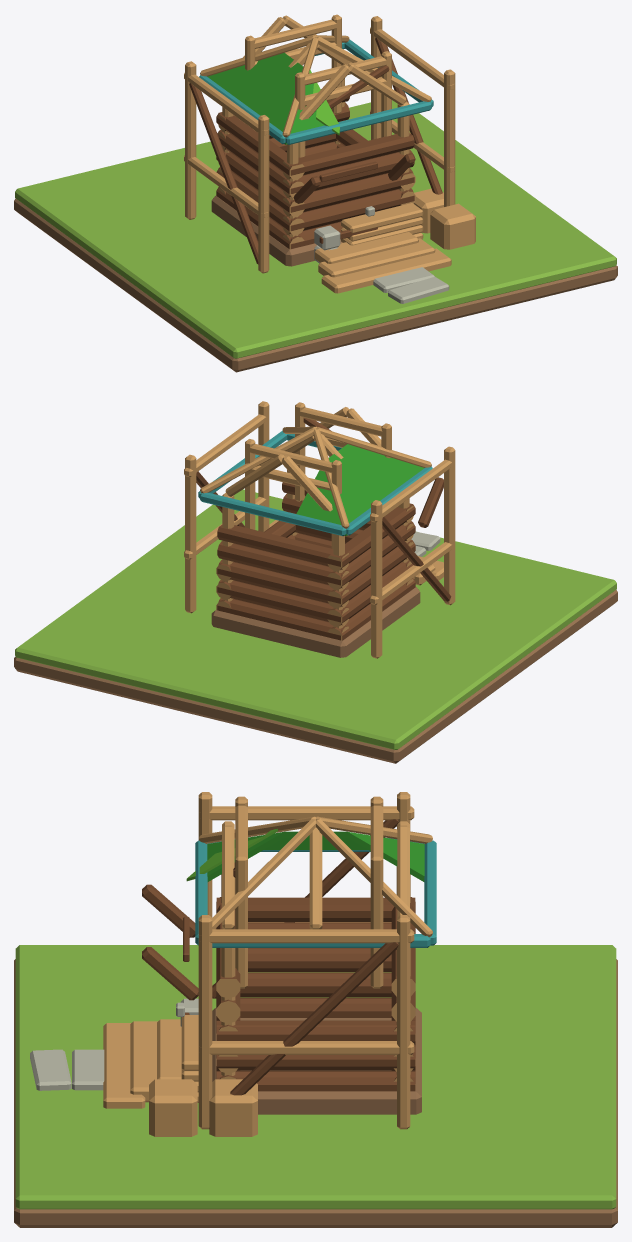
The model's file is town_hall_l01_construction_LOD0.glb.
The picture shows the model from 3 angles, top to bottom: view 1: azimuth 30°, elevation 25°; view 2: azimuth 150°, elevation 25°; view 3: azimuth 270°, elevation 25°; orthographic projection. The views are drawn at different scales.
Visible parts, largest first — view 1: town_hall_l01_construction_grass_tile, town_hall_l01_construction_earth_tile, town_hall_l01_construction_wall_log.016, town_hall_l01_construction_hip_roof_shingle.011, town_hall_l01_construction_wall_log.004, town_hall_l01_construction_wall_log.008, town_hall_l01_construction_entry_step.002, town_hall_l01_construction_scaffold_post, town_hall_l01_construction_blueprint_crate, town_hall_l01_construction_entry_step.001, town_hall_l01_construction_scaffold_post.001, town_hall_l01_construction_scaffold_brace (+33 smaller); view 2: town_hall_l01_construction_grass_tile, town_hall_l01_construction_earth_tile, town_hall_l01_construction_foundation, town_hall_l01_construction_wall_log.013, town_hall_l01_construction_wall_log.017, town_hall_l01_construction_hip_roof_shingle.011, town_hall_l01_construction_wall_log.009, town_hall_l01_construction_wall_log.005, town_hall_l01_construction_wall_log.001, town_hall_l01_construction_scaffold_post.001, town_hall_l01_construction_scaffold_post.003, town_hall_l01_construction_scaffold_post (+26 smaller); view 3: town_hall_l01_construction_grass_tile, town_hall_l01_construction_earth_tile, town_hall_l01_construction_foundation, town_hall_l01_construction_wall_log.011, town_hall_l01_construction_wall_log.006, town_hall_l01_construction_wall_log.003, town_hall_l01_construction_wall_log.018, town_hall_l01_construction_scaffold_post.002, town_hall_l01_construction_wall_log.010, town_hall_l01_construction_scaffold_rail.003, town_hall_l01_construction_scaffold_post.003, town_hall_l01_construction_wall_log.002 (+36 smaller).
Part boxes in pixels (x1,y1,x2,y2): town_hall_l01_construction_grass_tile: (15,100,616,358); town_hall_l01_construction_earth_tile: (14,198,617,372); town_hall_l01_construction_wall_log.016: (283,133,414,178); town_hall_l01_construction_hip_roof_shingle.011: (207,66,291,144); town_hall_l01_construction_wall_log.004: (283,188,414,233); town_hall_l01_construction_wall_log.008: (283,168,414,215); town_hall_l01_construction_entry_step.002: (321,248,451,293); town_hall_l01_construction_scaffold_post: (258,115,269,273); town_hall_l01_construction_blueprint_crate: (430,203,475,249); town_hall_l01_construction_entry_step.001: (318,238,435,277); town_hall_l01_construction_scaffold_post.001: (185,61,196,219); town_hall_l01_construction_scaffold_brace: (189,83,258,264); town_hall_l01_construction_grass_tile: (15,489,616,749); town_hall_l01_construction_earth_tile: (14,590,617,763); town_hall_l01_construction_foundation: (211,587,420,657); town_hall_l01_construction_wall_log.013: (217,541,348,588); town_hall_l01_construction_wall_log.017: (217,525,348,569); town_hall_l01_construction_hip_roof_shingle.011: (340,458,424,535); town_hall_l01_construction_wall_log.009: (217,559,348,606); town_hall_l01_construction_wall_log.005: (217,579,348,625); town_hall_l01_construction_wall_log.001: (217,598,348,640); town_hall_l01_construction_scaffold_post.001: (371,500,382,658); town_hall_l01_construction_scaffold_post.003: (185,454,196,613); town_hall_l01_construction_scaffold_post: (444,446,455,605); town_hall_l01_construction_grass_tile: (15,945,616,1209); town_hall_l01_construction_earth_tile: (14,959,617,1227); town_hall_l01_construction_foundation: (212,1008,421,1114); town_hall_l01_construction_wall_log.011: (216,1020,415,1045); town_hall_l01_construction_wall_log.006: (240,972,391,997); town_hall_l01_construction_wall_log.003: (216,1071,415,1091); town_hall_l01_construction_wall_log.018: (216,897,415,921); town_hall_l01_construction_scaffold_post.002: (198,915,212,1129); town_hall_l01_construction_wall_log.010: (248,948,391,971); town_hall_l01_construction_scaffold_rail.003: (198,929,414,943); town_hall_l01_construction_scaffold_post.003: (397,915,410,1129); town_hall_l01_construction_wall_log.002: (240,997,391,1017).
Size of the model in its own units: 3.6 by 1.87 by 3.6.
